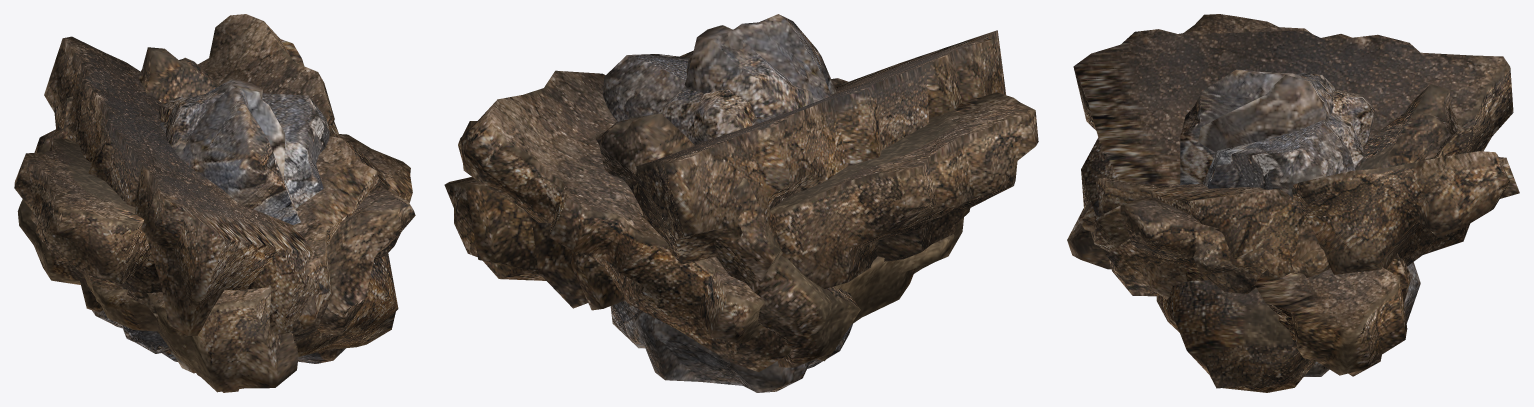
Rendered from Stone2.fbx.
3 views of the same model, side by side, from view 1: azimuth 30°, elevation 25°; view 2: azimuth 150°, elevation 25°; view 3: azimuth 270°, elevation 25° (orthographic). The views are drawn at different scales.
Visible parts, largest first — view 1: L2, L4, L1, L3, M4, M3, M2; view 2: L4, L1, L2, L3, M4, M2, M3, M1; view 3: L2, L4, L3, L1, M3, M2, M4, M1.
Part boxes in pixels (bbox=[...]): L2: bbox=[44, 36, 398, 356]; L4: bbox=[83, 14, 388, 392]; L1: bbox=[14, 134, 412, 319]; L3: bbox=[17, 47, 415, 335]; M4: bbox=[92, 83, 345, 363]; M3: bbox=[159, 93, 329, 208]; M2: bbox=[165, 79, 285, 373]; L4: bbox=[458, 55, 970, 372]; L1: bbox=[444, 92, 1038, 310]; L2: bbox=[531, 30, 1005, 308]; L3: bbox=[596, 50, 860, 367]; M4: bbox=[610, 14, 852, 392]; M2: bbox=[684, 25, 813, 117]; M3: bbox=[602, 54, 775, 301]; M1: bbox=[658, 88, 755, 144]; L2: bbox=[1073, 29, 1513, 392]; L4: bbox=[1067, 151, 1519, 299]; L3: bbox=[1105, 84, 1461, 296]; L1: bbox=[1184, 14, 1411, 376]; M3: bbox=[1203, 120, 1355, 197]; M2: bbox=[1198, 72, 1335, 152]; M4: bbox=[1180, 69, 1420, 376]; M1: bbox=[1327, 89, 1374, 167].
Size of the model in its own units: 549 by 334 by 498.
